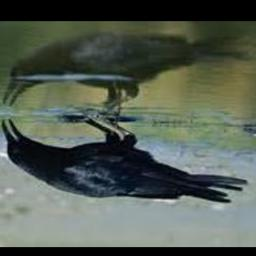Crow: (1, 115, 249, 205)
